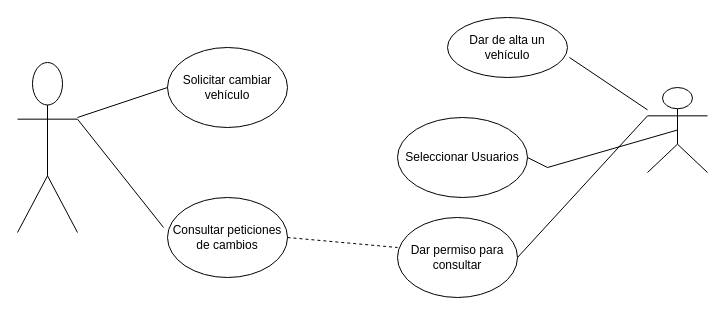
This 725x315 diagram has some shape labels left out. Each missing label, with the box of its shape:
Propietario: (646, 86, 708, 172)
Usuarios: (16, 62, 78, 232)
